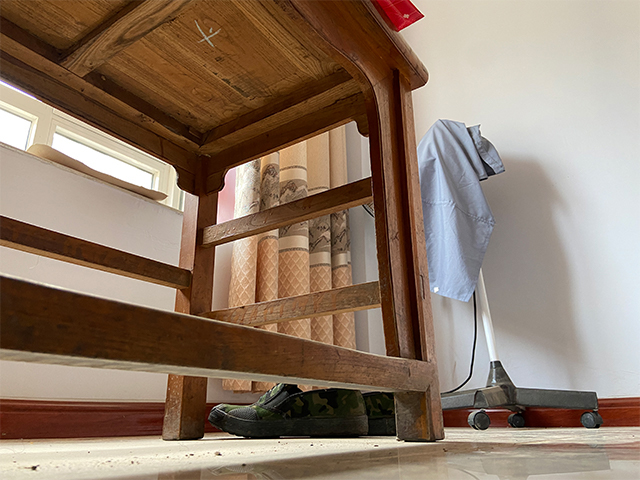curtain: (221, 120, 356, 394)
stool: (1, 1, 444, 442)
